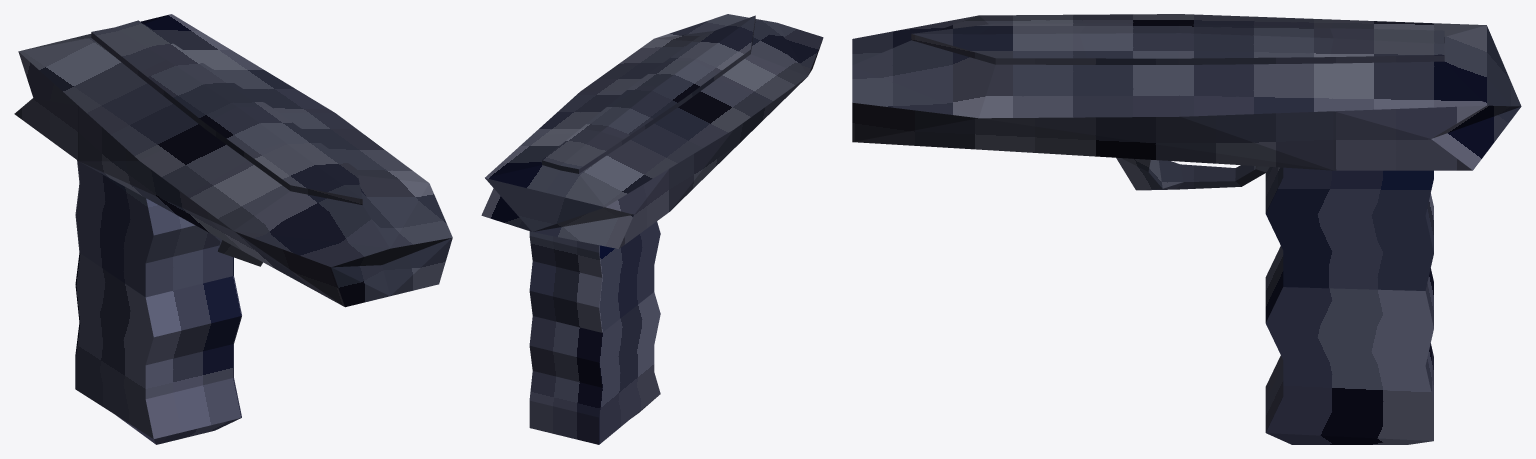
The model's file is Gun.glb.
3 views of the same model, side by side, from view 1: azimuth 30°, elevation 25°; view 2: azimuth 150°, elevation 25°; view 3: azimuth 270°, elevation 25° (orthographic). The views are drawn at different scales.
Visible parts, largest first — view 1: Plane, Cube; view 2: Plane, Cube; view 3: Plane, Cube.
Boxes of the visible parts, x1,y1,x2,y2 form: Plane: (14,14,452,307); Cube: (75,160,241,444); Plane: (481,14,823,248); Cube: (529,221,660,444); Plane: (852,14,1521,190); Cube: (1265,167,1433,444).
Size of the model in its own units: 1.44 by 2.58 by 3.95.
1 material, 1 textured.
